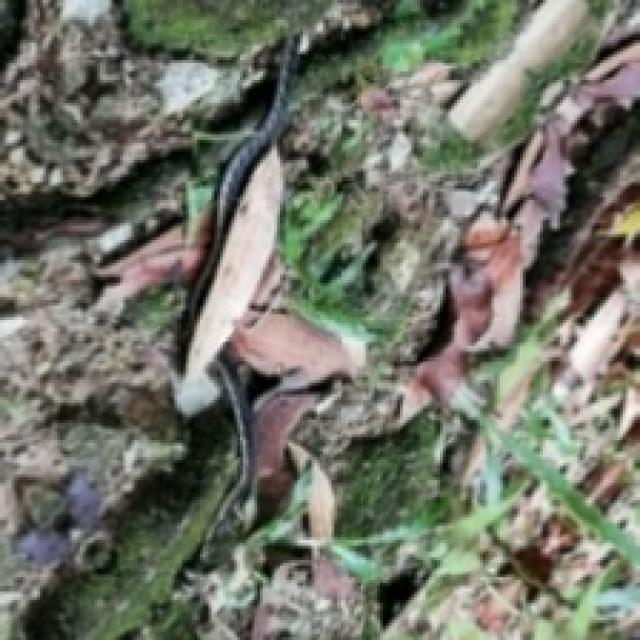king cobra: (174, 23, 354, 506)
